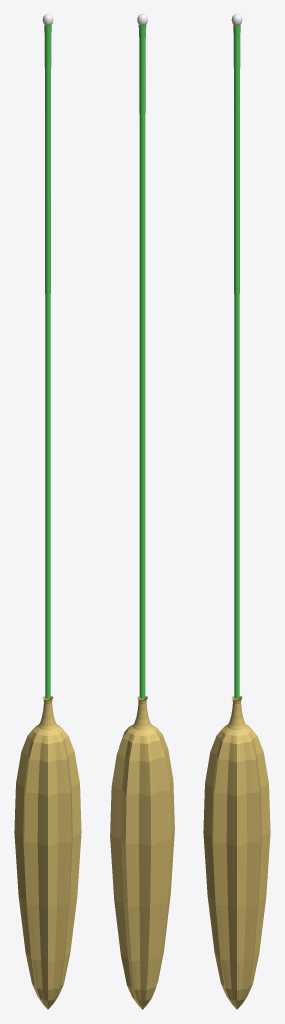
File: fluff.fbx
3 views of the same model, side by side, from view 1: azimuth 90°, elevation 25°; view 2: azimuth 150°, elevation 25°; view 3: azimuth 270°, elevation 25° (orthographic).
Parts seen in each view (by area): view 1: Circle; view 2: Circle; view 3: Circle.
Part boxes in pixels (x1,y1,x2,y2): Circle: (14,14,81,1009); Circle: (110,14,174,1009); Circle: (203,14,270,1009).
Size of the model in its own units: 103 by 1690 by 103.
